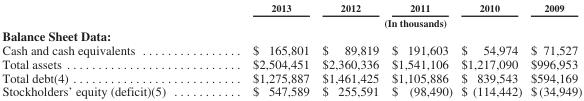table: (1, 1, 581, 98)
table column: (1, 1, 208, 98), (208, 1, 315, 98), (384, 1, 456, 98), (315, 1, 384, 98), (456, 1, 525, 98), (525, 1, 581, 98)
table column header: (1, 1, 581, 28)
table projected row header: (1, 28, 581, 42)
table row: (1, 14, 581, 28), (1, 28, 581, 42), (1, 42, 581, 56), (1, 56, 581, 70), (1, 70, 581, 84), (1, 84, 581, 98), (1, 1, 581, 14)
table spanning cell: (208, 14, 581, 28)
